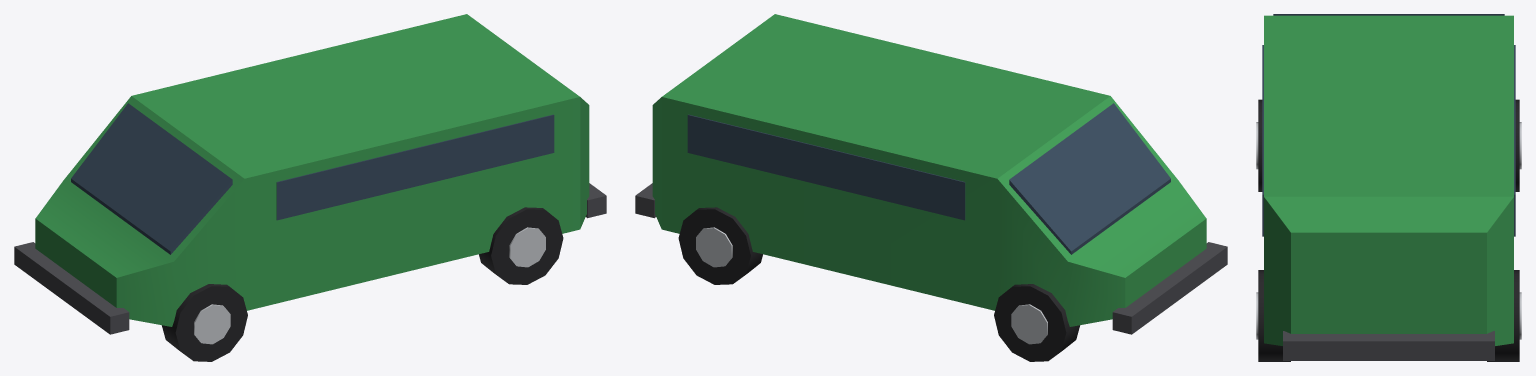
File: car_van_green.fbx
The picture shows the model from 3 angles, left to right: view 1: azimuth 30°, elevation 25°; view 2: azimuth 150°, elevation 25°; view 3: azimuth 270°, elevation 25°; orthographic projection. The views are drawn at different scales.
Parts seen in each view (by area): view 1: Body, Wheel_FR, Wheel_RR; view 2: Body, Wheel_FL, Wheel_RL; view 3: Body, Wheel_RL, Wheel_RR, Wheel_FL, Wheel_FR.
Part boxes in pixels (box(x1,y1,x2,y2)): Body: box(14, 14, 606, 334); Wheel_FR: box(162, 284, 247, 361); Wheel_RR: box(479, 207, 563, 284); Body: box(635, 14, 1227, 334); Wheel_FL: box(994, 284, 1079, 361); Wheel_RL: box(678, 207, 762, 284); Body: box(1262, 14, 1515, 360); Wheel_RL: box(1487, 270, 1521, 361); Wheel_RR: box(1256, 270, 1290, 361); Wheel_FL: box(1515, 99, 1521, 191); Wheel_FR: box(1256, 99, 1262, 191).
Size of the model in its own units: 4.66 by 1.55 by 1.95.
